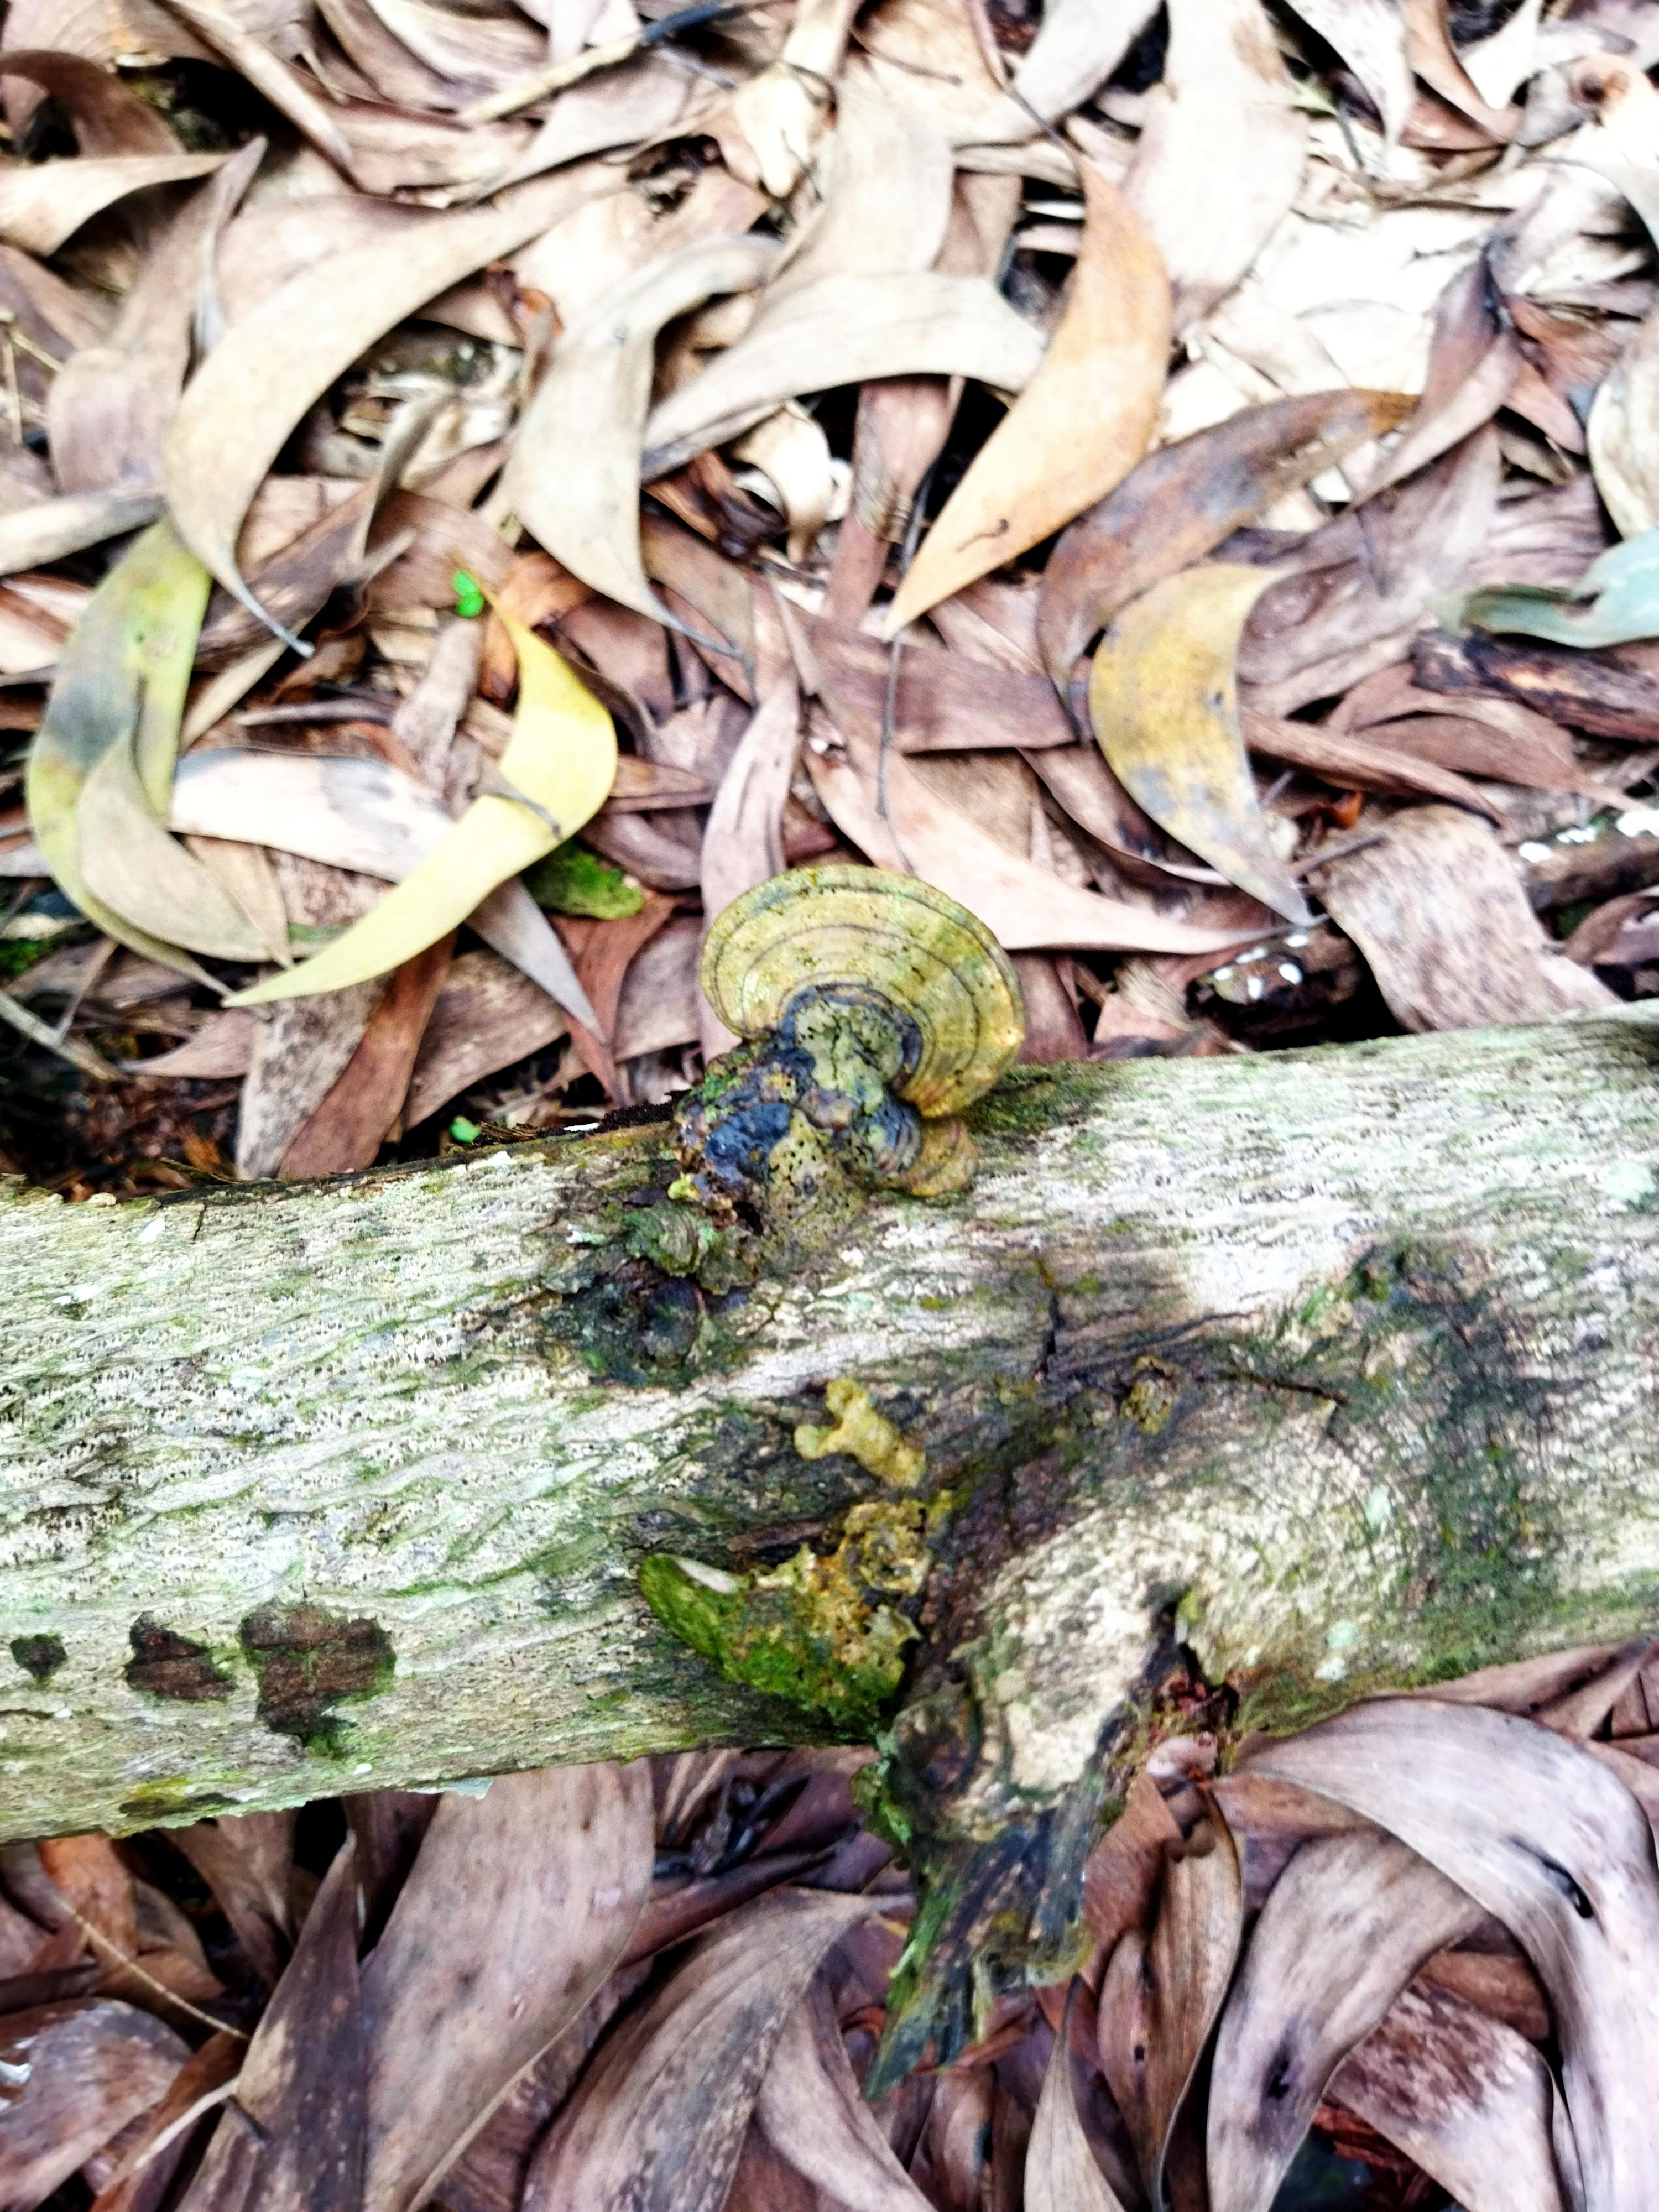Ganoderma - Fruit Body: (714, 859, 1014, 1115)
